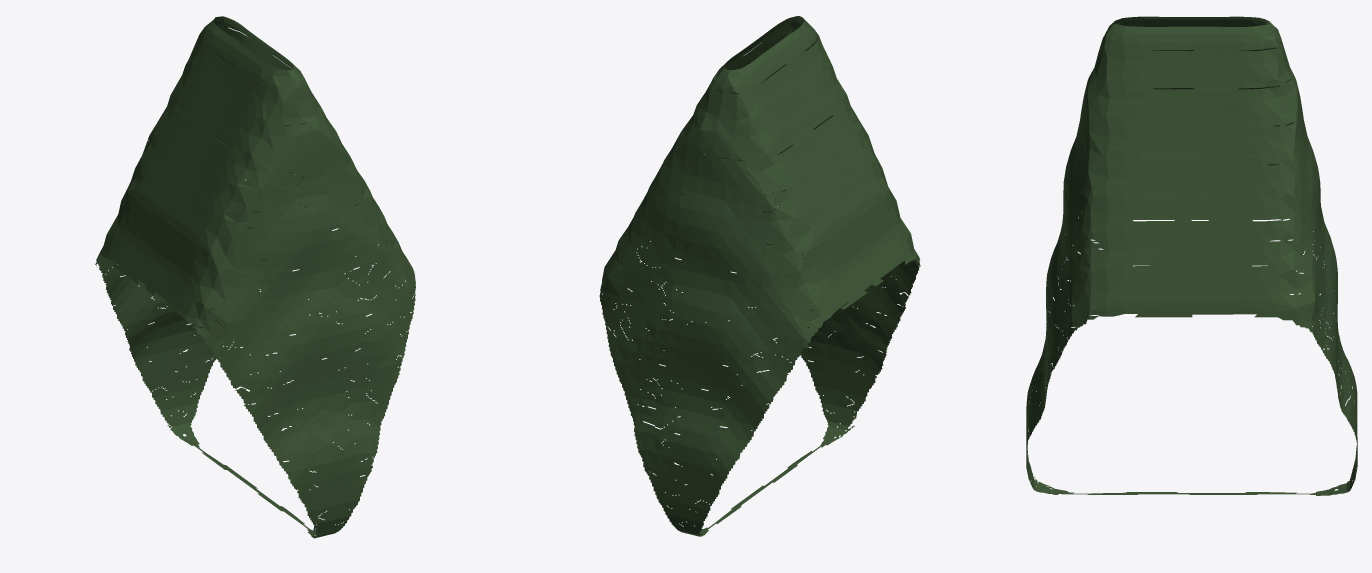
The picture shows the model from 3 angles, left to right: view 1: azimuth 30°, elevation 25°; view 2: azimuth 150°, elevation 25°; view 3: azimuth 270°, elevation 25°; orthographic projection. The views are drawn at different scales.
Visible parts, largest first — view 1: reconstruction; view 2: reconstruction; view 3: reconstruction.
Part boxes in pixels (x1,y1,x2,y2): reconstruction: (95, 16, 415, 538); reconstruction: (599, 16, 920, 536); reconstruction: (1026, 16, 1357, 495).
Bounding box in the file's own units: 0.869 × 1 × 0.6259.
Materials: 1 (1 with a texture image).
